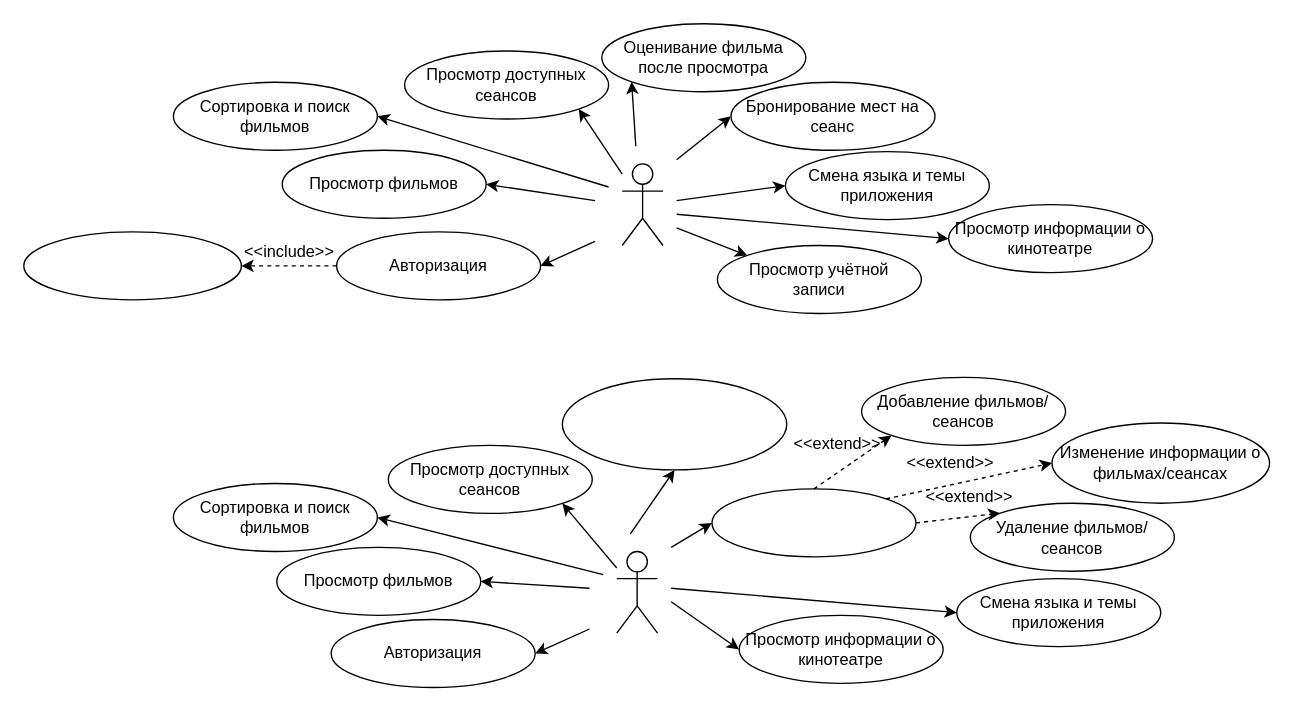
Image size: 1293x722. Some labels were removed from this diagram. Here are the shapes that lost their labels. From the top down, the centre of each, then its label:
At point 642,204: "Пользователь".
At point 131,265: "Регистрация".
At point 674,423: "Просмотр информации о пользовательских заказах".
At point 813,522: "Редактирование информации о фильмах и сеансах".
At point 636,591: "Администратор".
